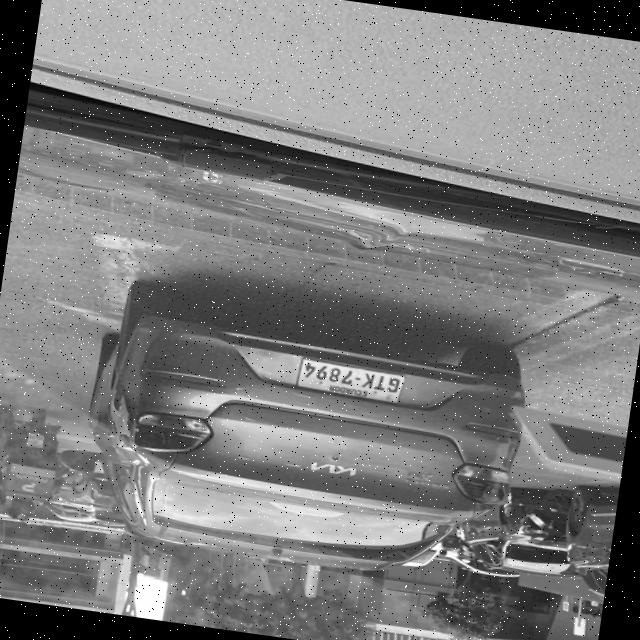Placa: (297, 358, 404, 401)
